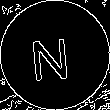N_N: (33, 28, 77, 82)
